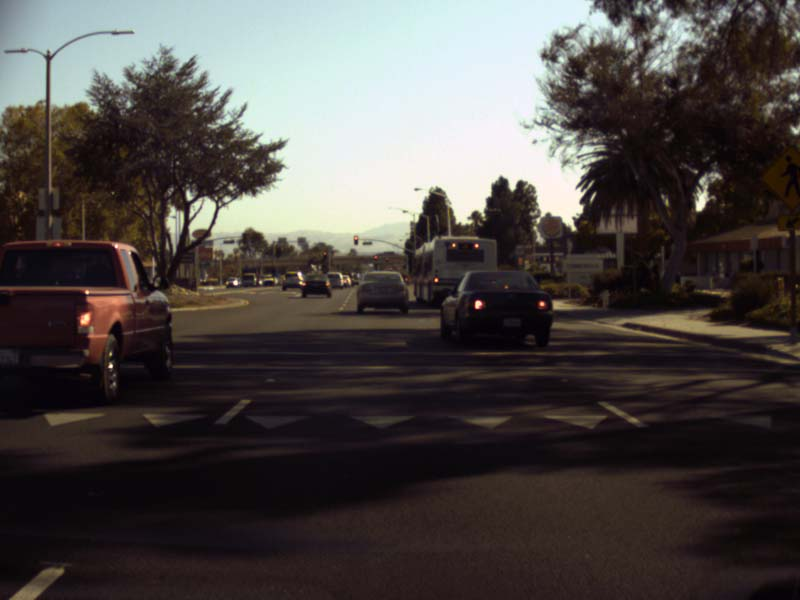Red: (353, 234, 358, 245), (373, 255, 377, 262), (323, 250, 326, 259)
